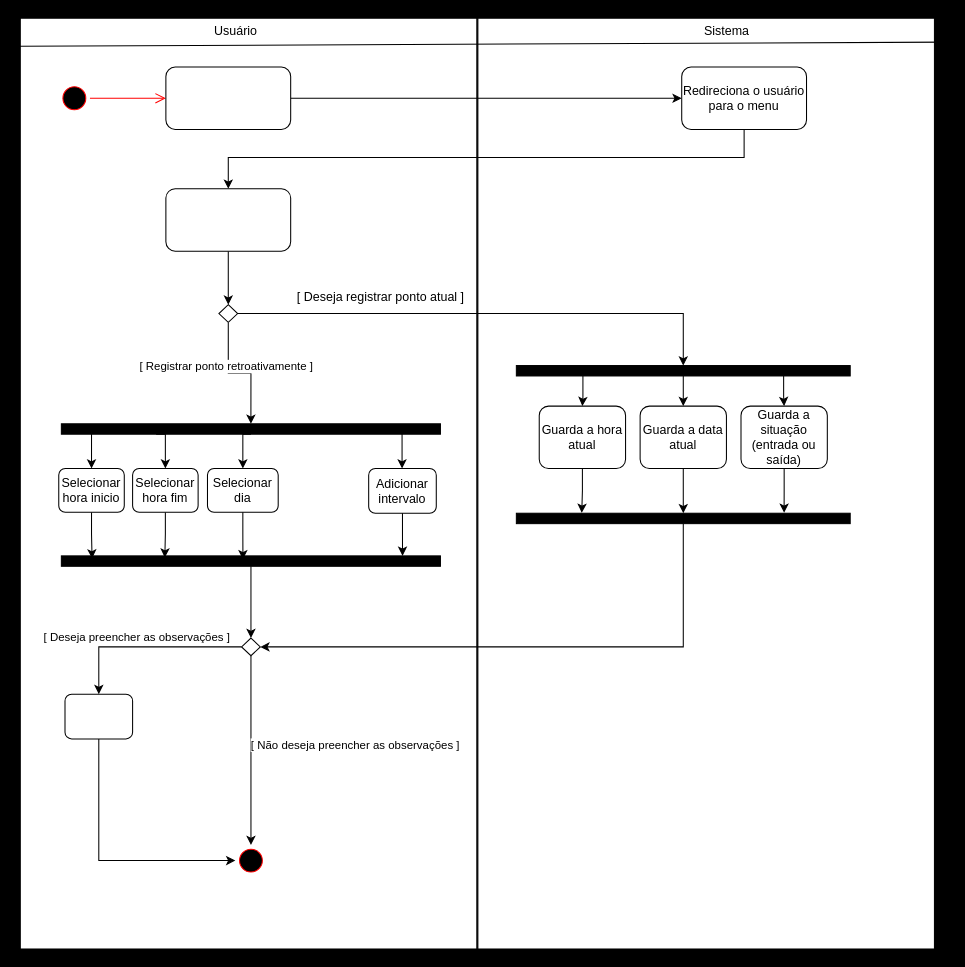
Image size: 965x967. Some labels were removed from this diagram. The shapes that lost their labels are listed below. From the top down, each one's centre as x and y in pixels, then its label:
At pixel 228 97: "Preenche os dados de login".
At pixel 228 219: "Usuário seleciona o botão de registrar ponto".
At pixel 98 716: "Preencher observações".
